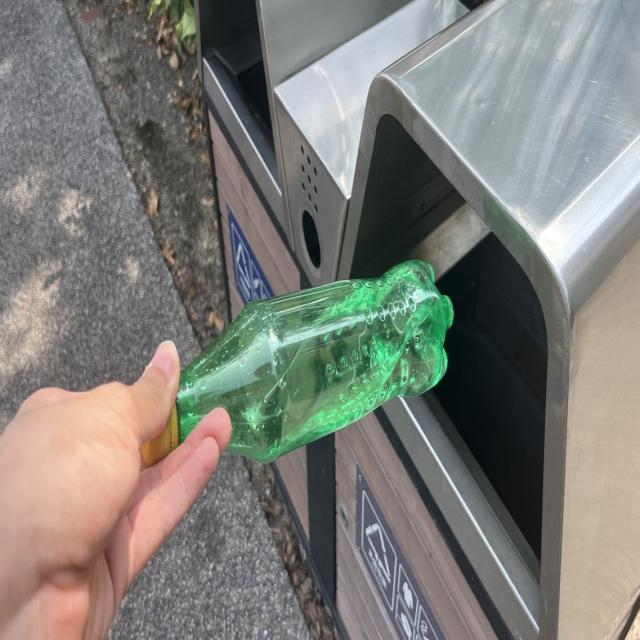medium: (143, 260, 453, 463)
